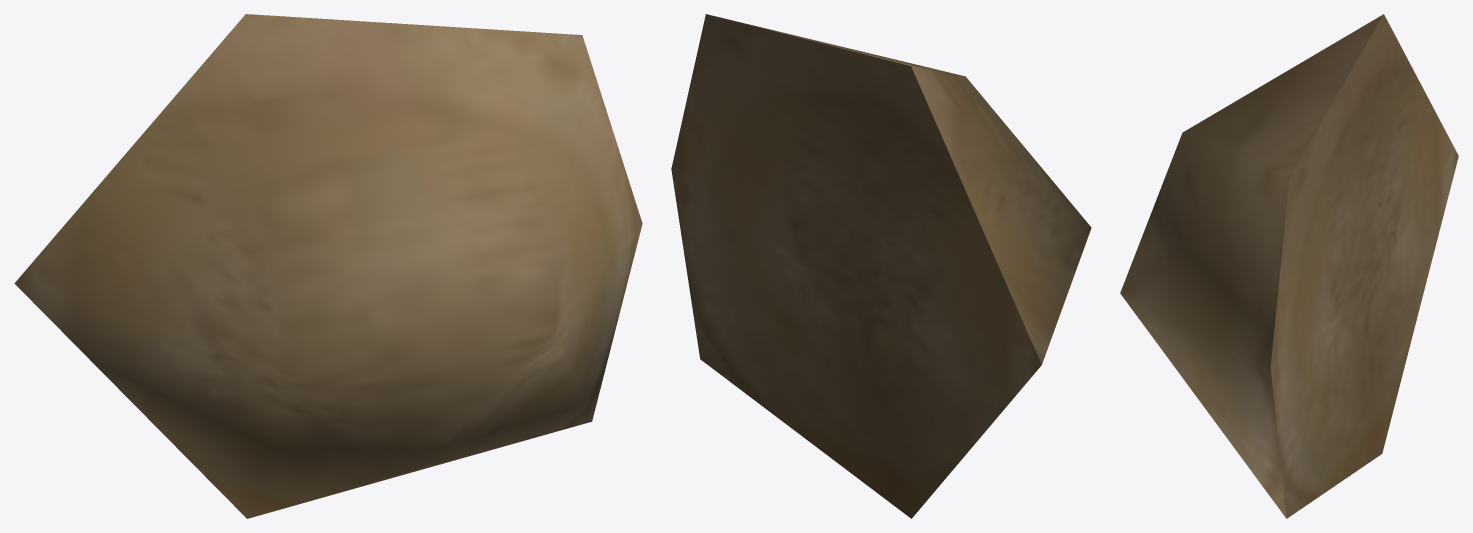
The model's file is helmet_british_afrca_low.glb.
The picture shows the model from 3 angles, left to right: view 1: azimuth 30°, elevation 25°; view 2: azimuth 150°, elevation 25°; view 3: azimuth 270°, elevation 25°; orthographic projection. The views are drawn at different scales.
Bounding box in the file's own units: 12.89 × 11.94 × 8.34.
1 material, 1 textured.
